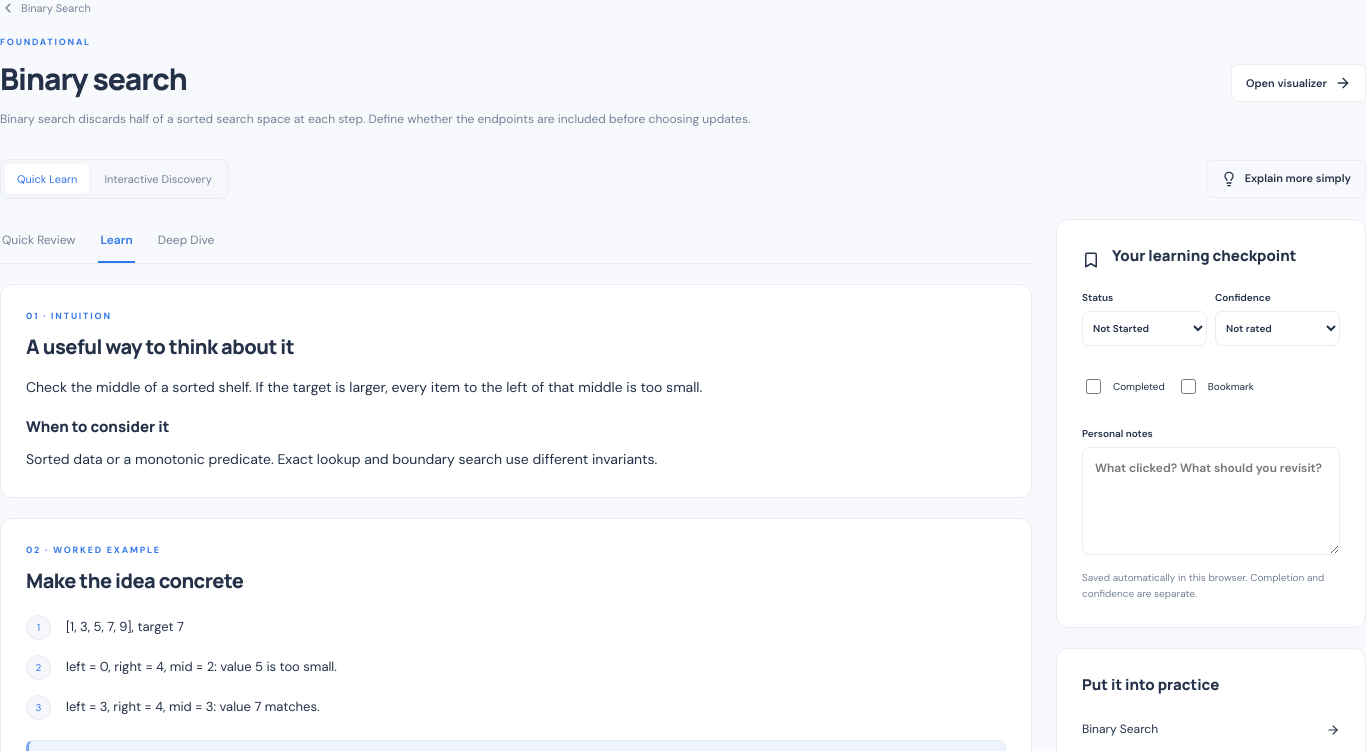
Test: critical learning interactions › changes lesson depth without losing a saved discovery prediction
Click the button "Deep Dive" at (186, 241), box [156,219,216,263]
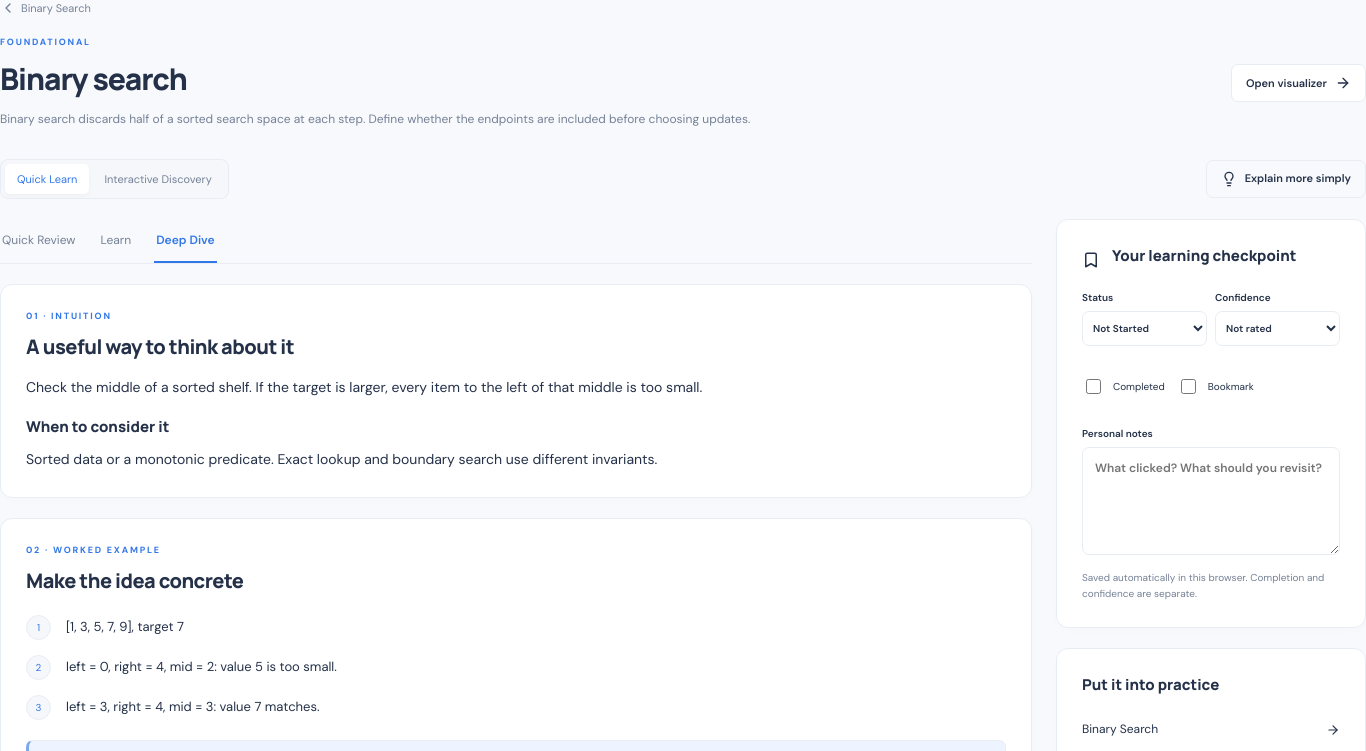
Click the button "Interactive Discovery" at (158, 179), box [92,164,224,194]
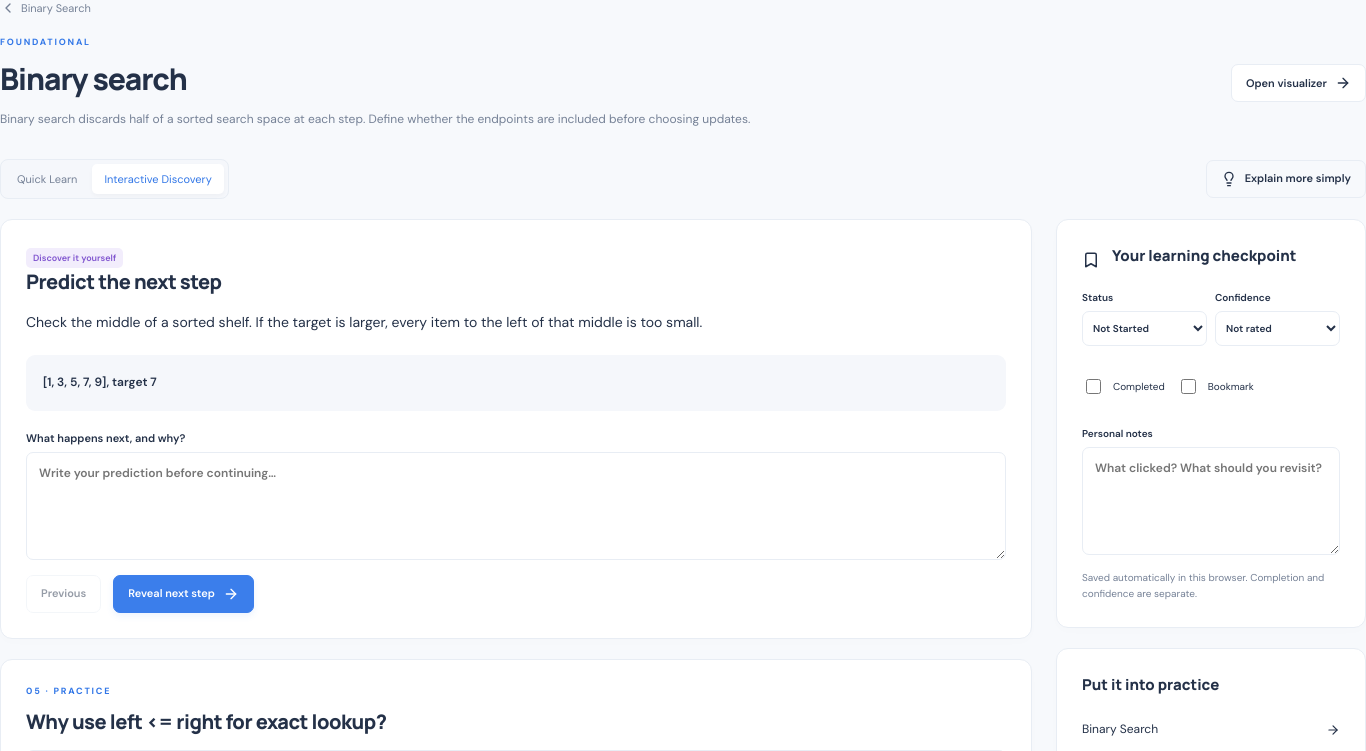
Type "Discard the smaller half." into the text box labelled "What happens next, and why?" at (516, 506), box [26,452,1006,560]
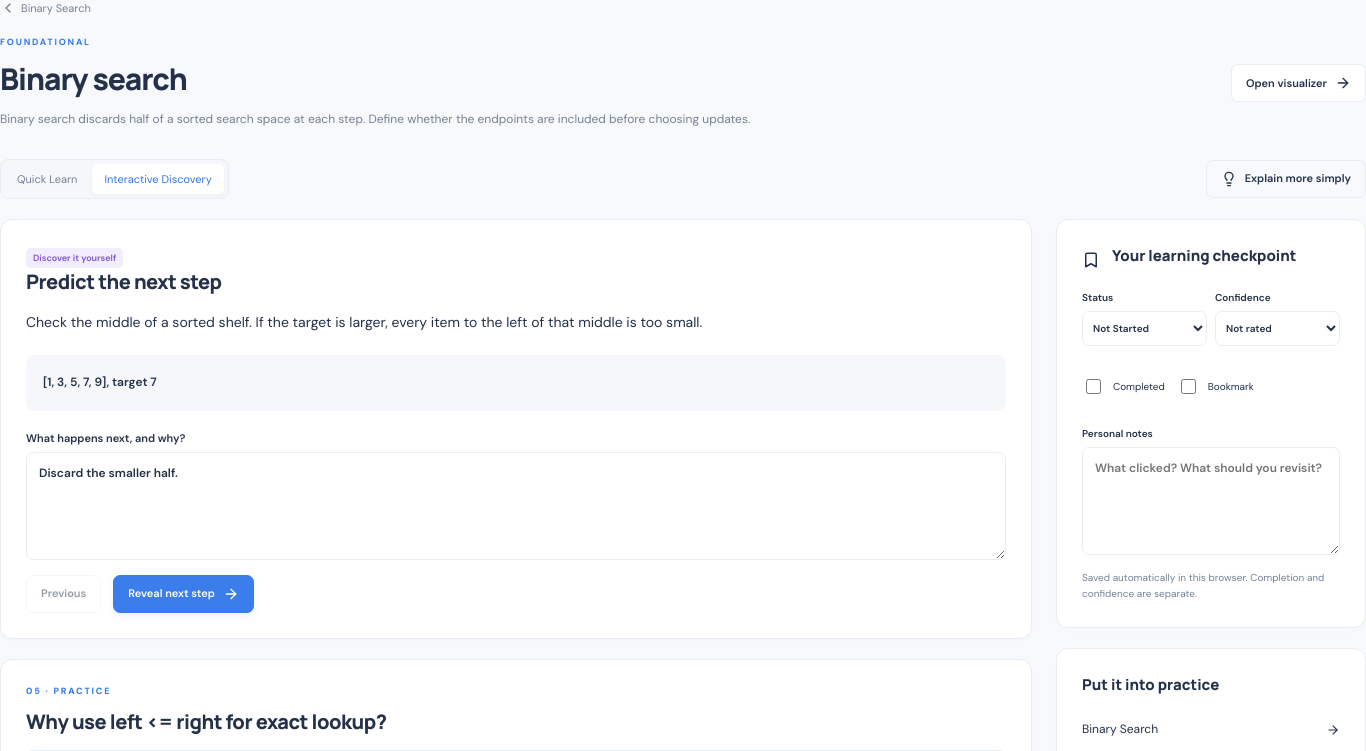
Click the button "Quick Learn" at (47, 179), box [5,164,89,194]
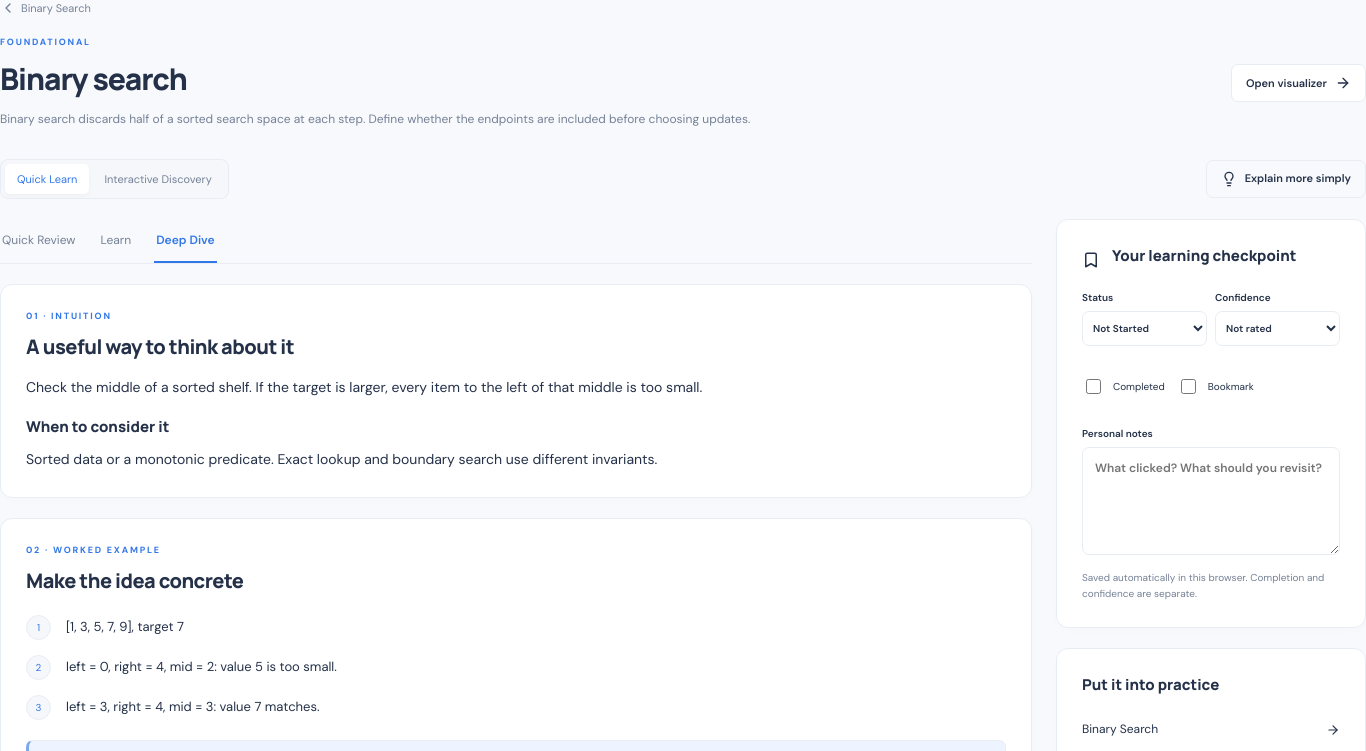
Click the button "Interactive Discovery" at (158, 179), box [92,164,224,194]
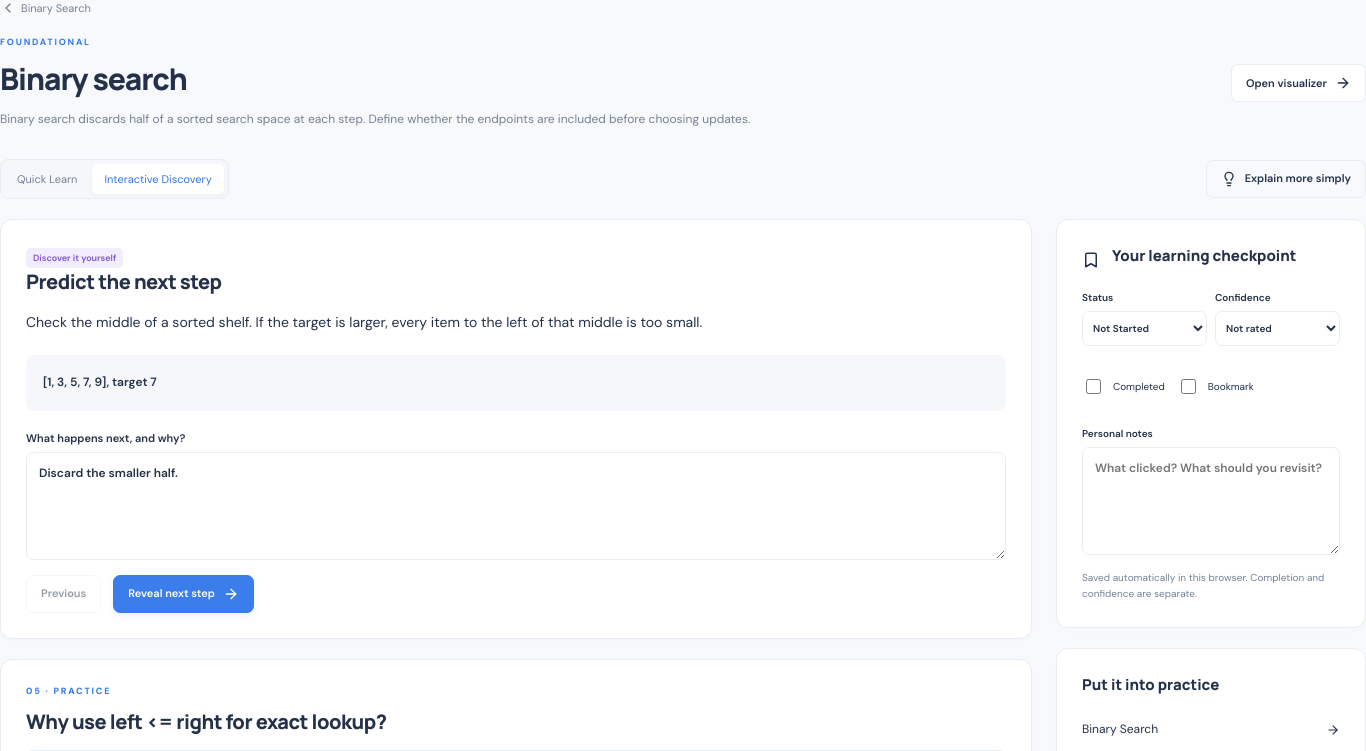
Result: the text box labelled "What happens next, and why?" holds "Discard the smaller half." at [26,452,1006,560]
Click the button "Explain more simply" at (1286, 179), box [1206,160,1365,198]
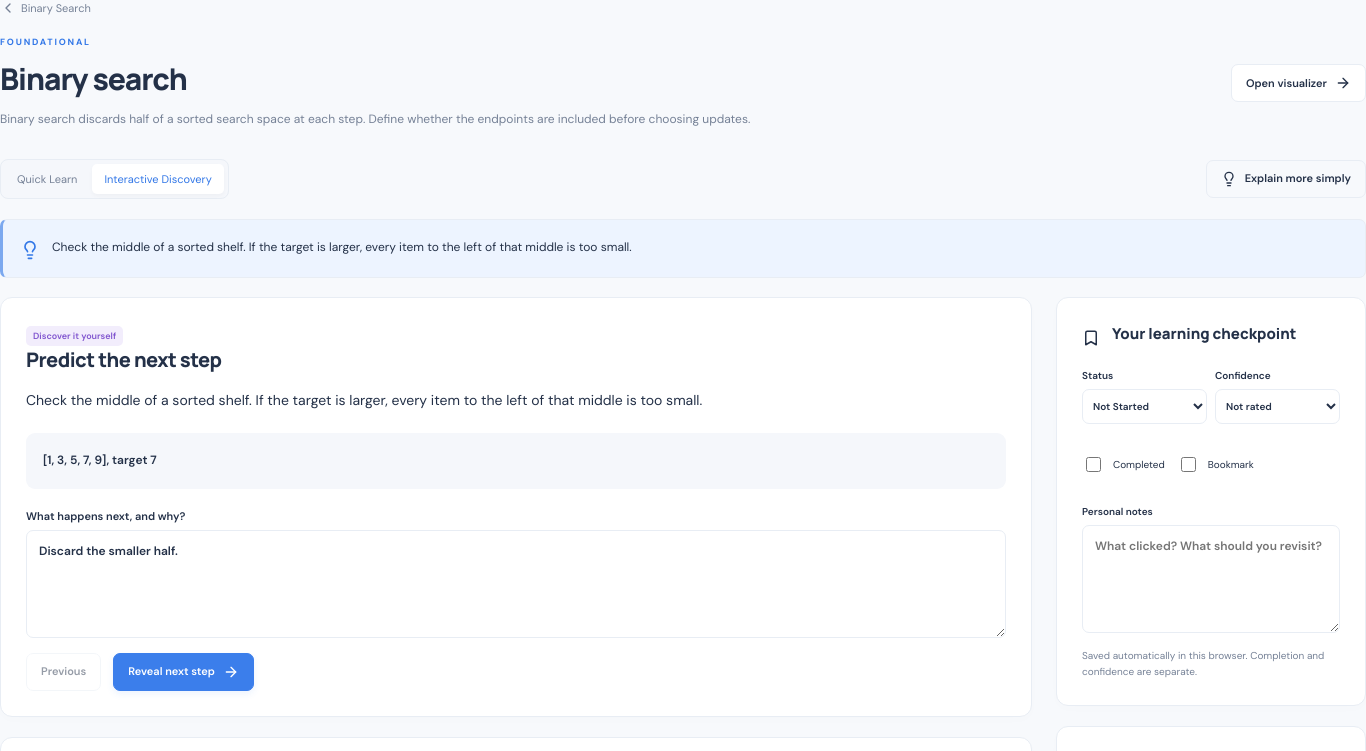
Result: the 1st text "Check the middle of a sorted shelf" is shown at [52,239,632,255]
